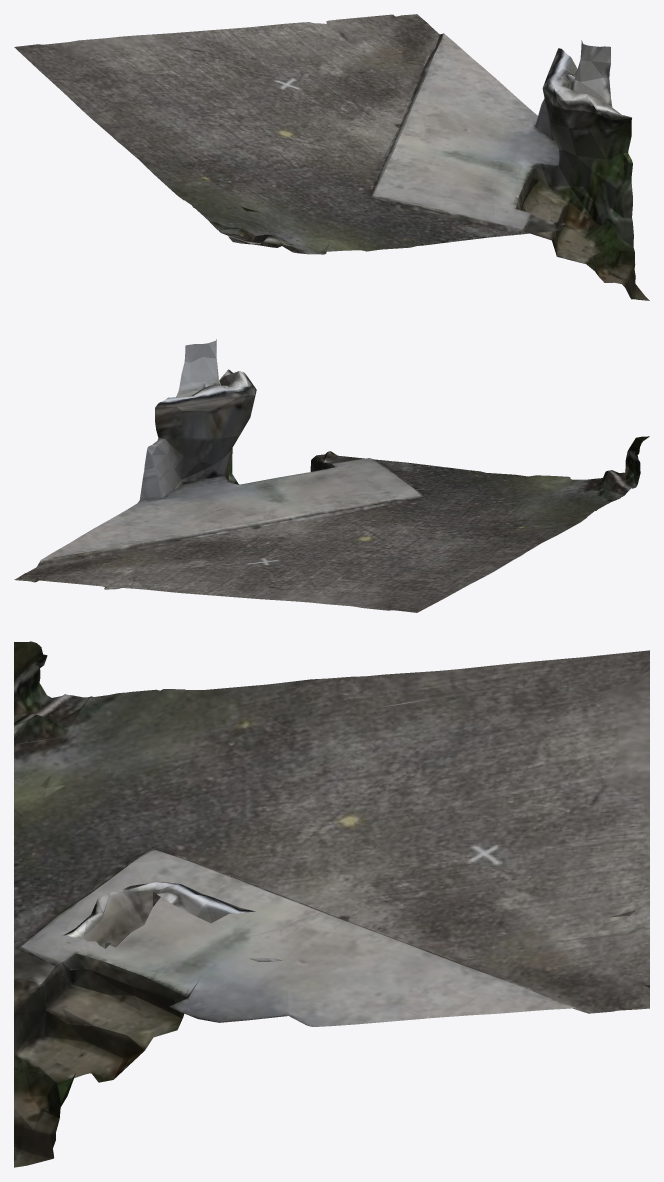
The picture shows the model from 3 angles, top to bottom: view 1: azimuth 30°, elevation 25°; view 2: azimuth 150°, elevation 25°; view 3: azimuth 270°, elevation 25°; orthographic projection. The views are drawn at different scales.
Bounding box in the file's own units: 3.35 × 1.79 × 3.35.
3 materials, 3 textured.
